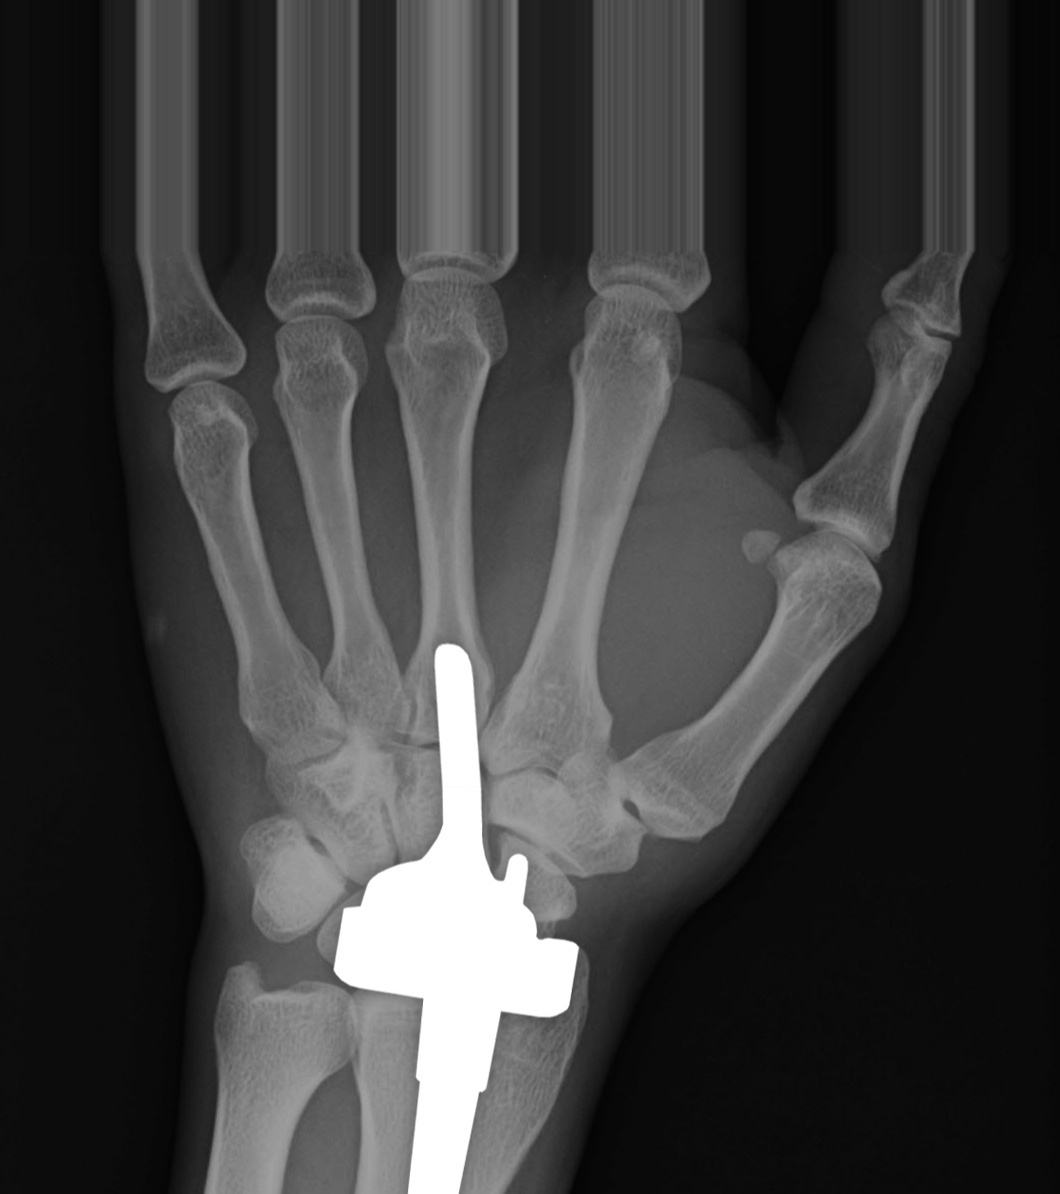Wrist-Biax-DePuuy: (289, 633, 582, 1194)
